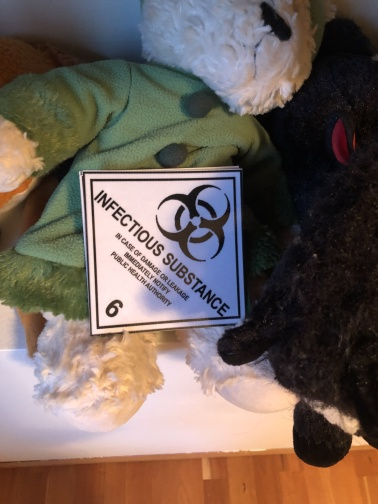InfectiousSubstance: (82, 170, 247, 335)
